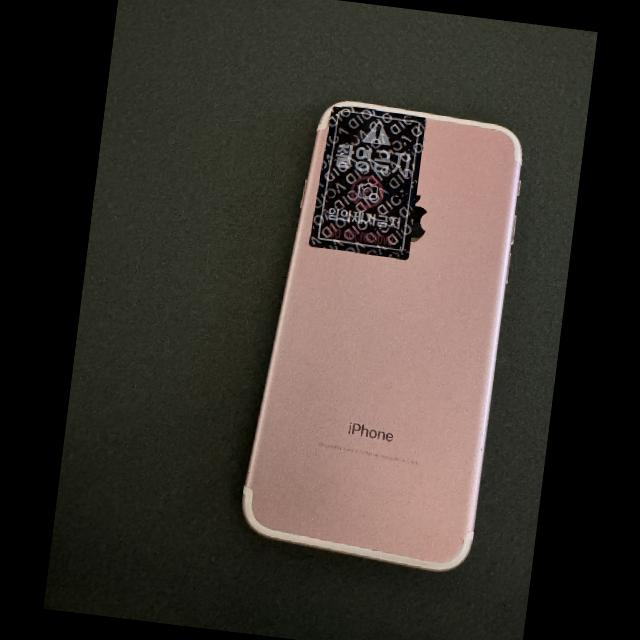phone: (242, 101, 521, 571)
sticker: (309, 105, 425, 259)
